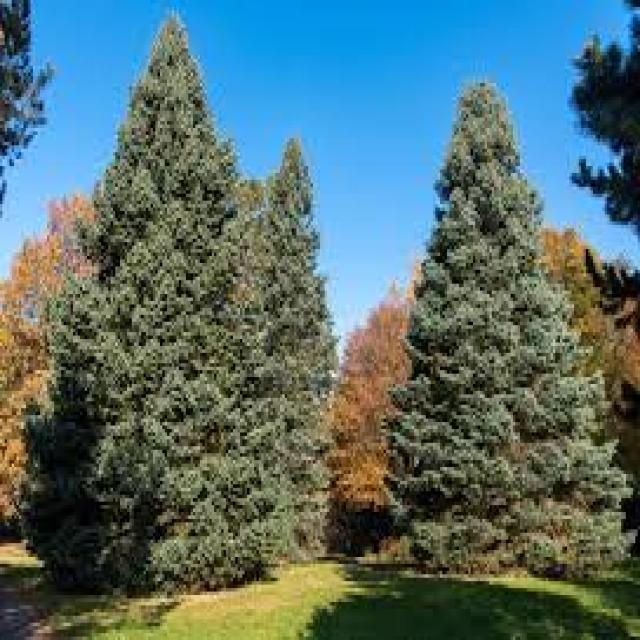foliage: (11, 12, 299, 603), (380, 79, 638, 585), (259, 130, 336, 559), (334, 277, 406, 560)
